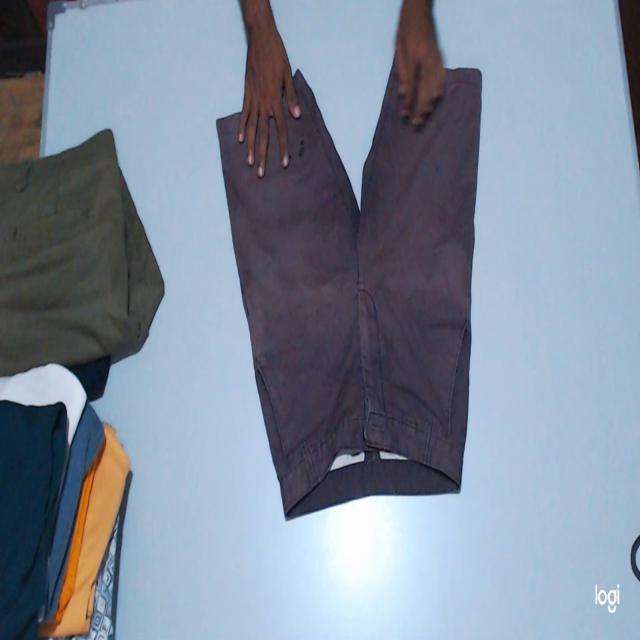new-garment: (217, 68, 482, 517)
